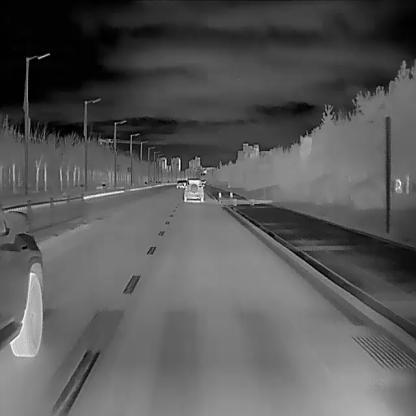car: (0, 206, 44, 359), (183, 177, 204, 202), (176, 179, 183, 188), (182, 179, 187, 187)
